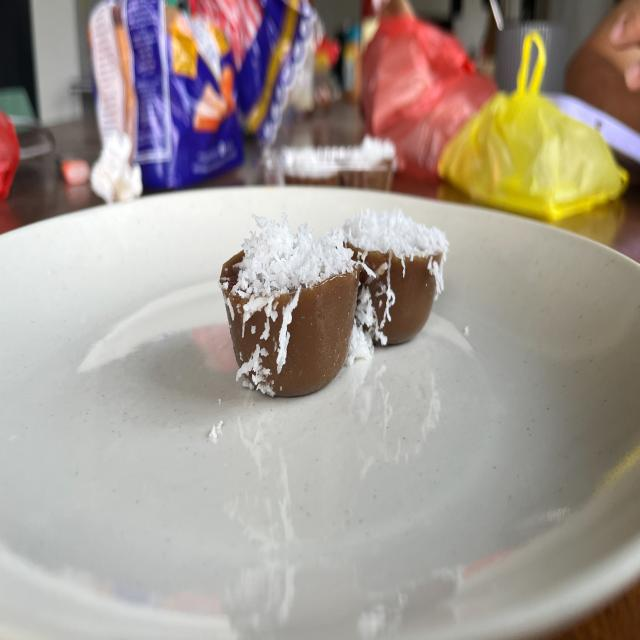Kuih lompang: (220, 213, 359, 398), (344, 207, 449, 358)
